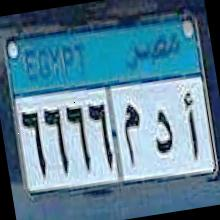6: (61, 100, 94, 176), (86, 97, 117, 172), (19, 107, 50, 178), (43, 104, 70, 176)
alif: (173, 86, 207, 168)
daal: (149, 108, 178, 152)
meem: (116, 98, 150, 170)
